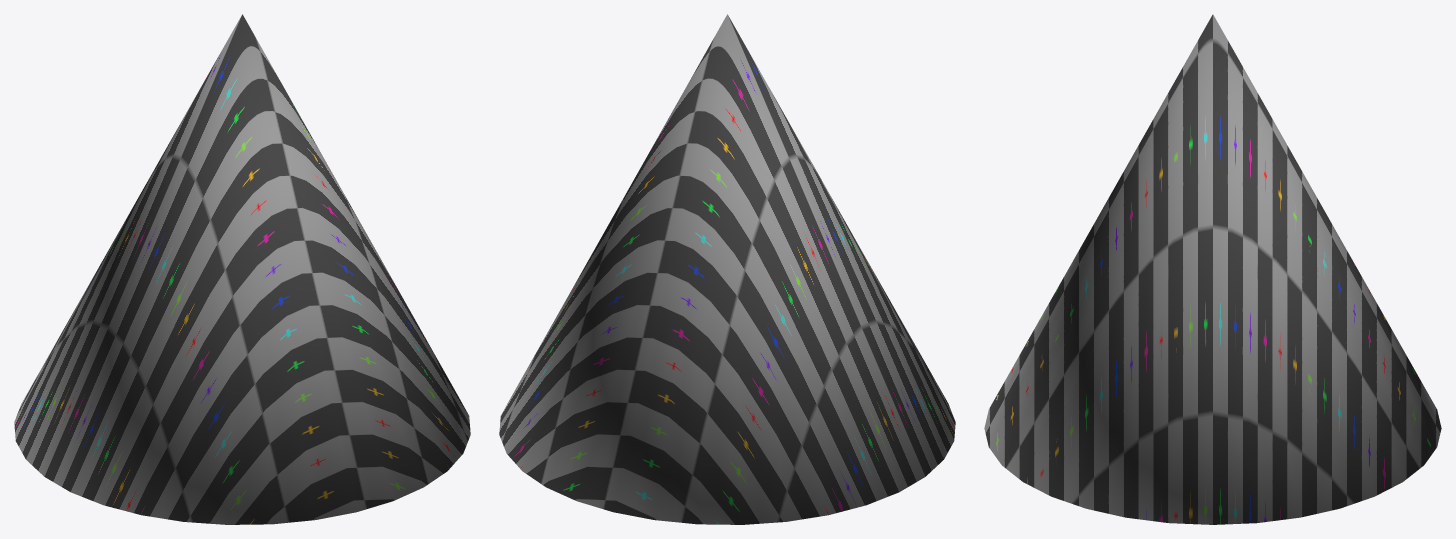
3 views of the same model, side by side, from view 1: azimuth 30°, elevation 25°; view 2: azimuth 150°, elevation 25°; view 3: azimuth 270°, elevation 25° (orthographic).
Parts seen in each view (by area): view 1: Cone; view 2: Cone; view 3: Cone.
Boxes of the visible parts, x1,y1,x2,y2 form: Cone: (14,14,470,524); Cone: (499,14,955,524); Cone: (984,14,1441,524).
Bounding box in the file's own units: 2 × 2 × 2.
Materials: 1 (1 with a texture image).
